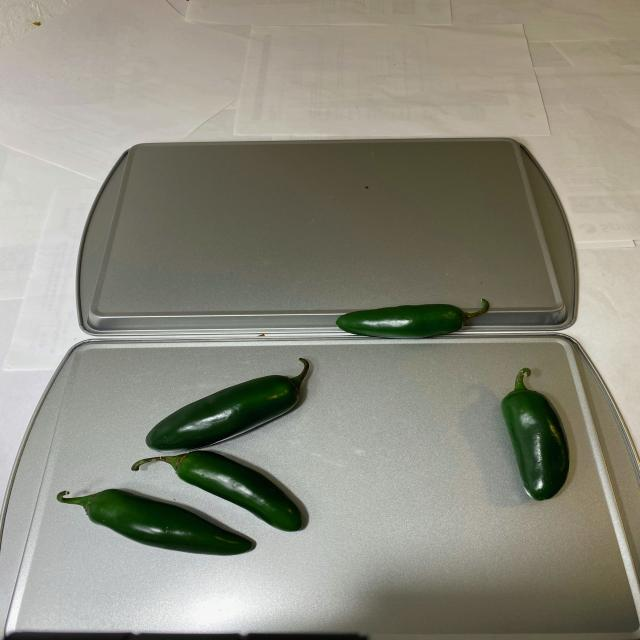chilli: (60, 362, 324, 557), (497, 370, 574, 509), (329, 300, 498, 348)
